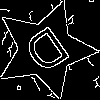D: (20, 24, 79, 83)
